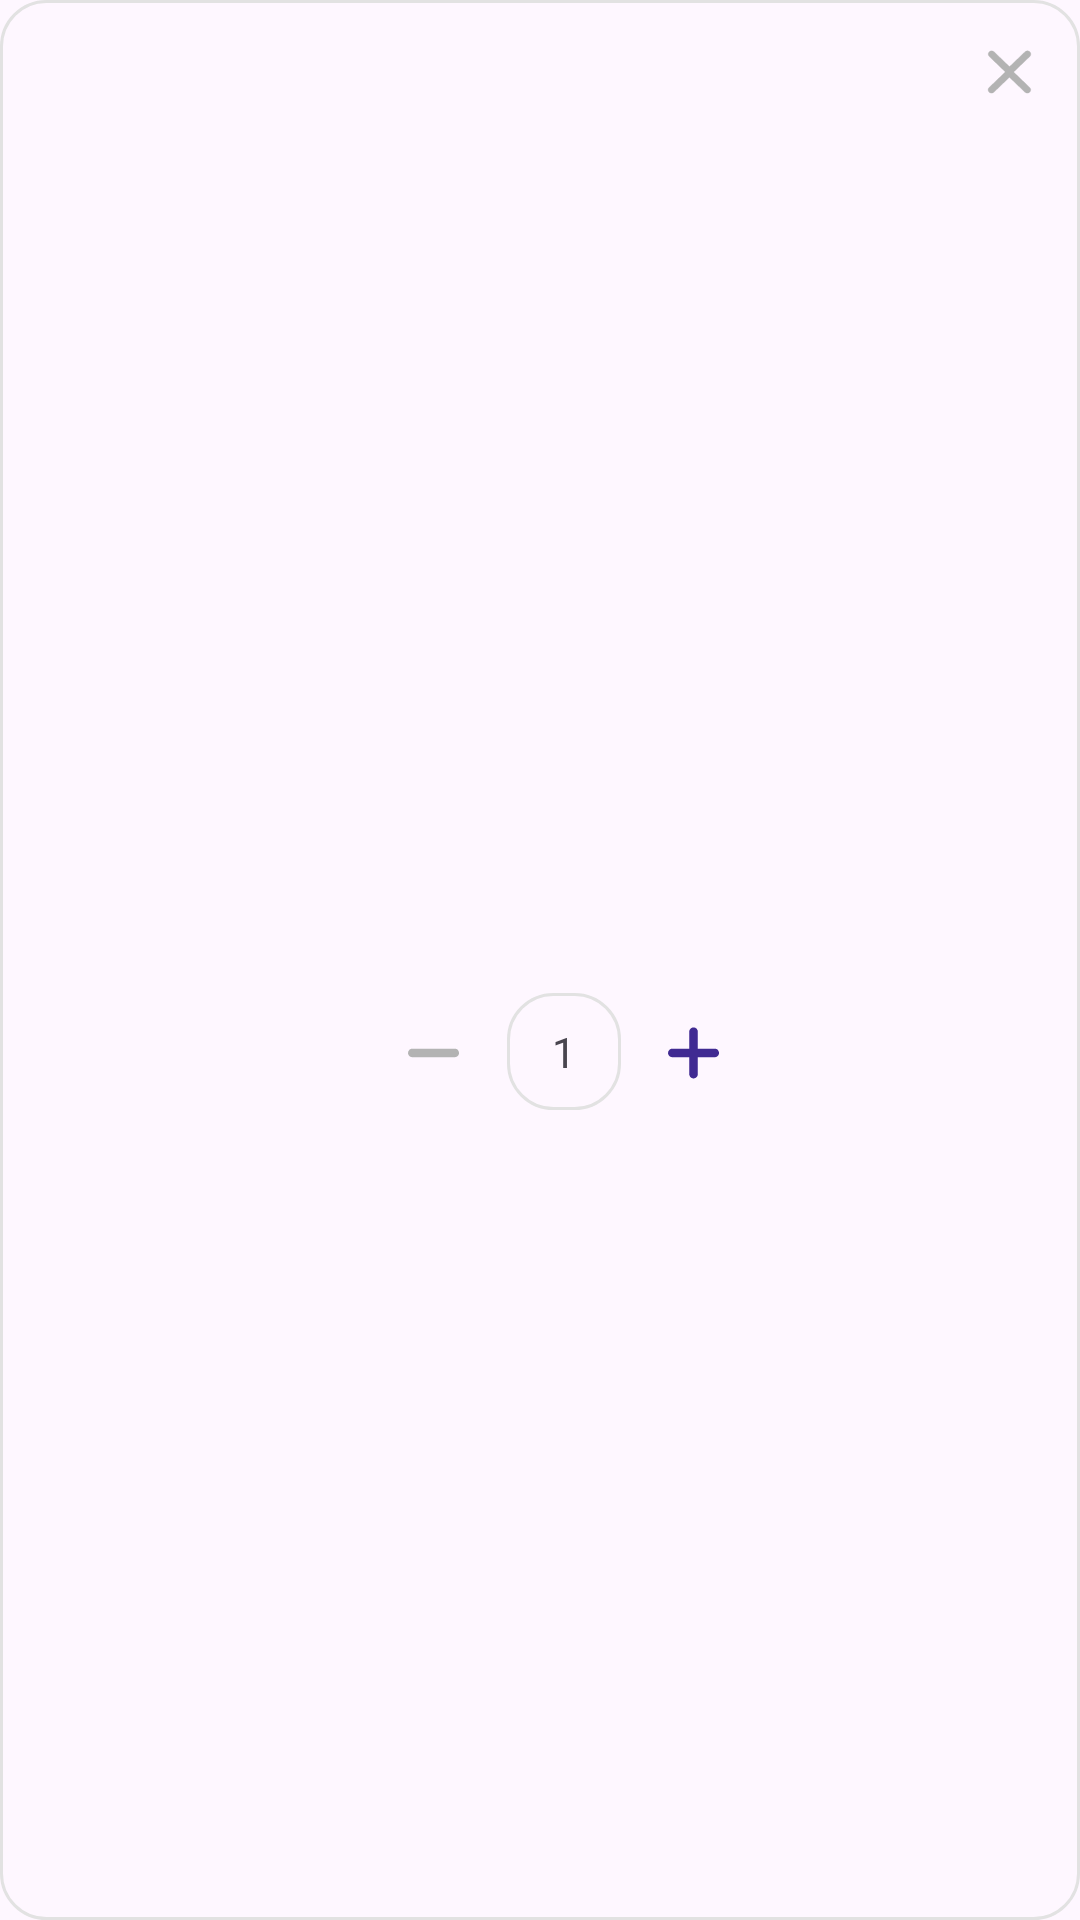

Icons on this 1080 x 1920 Android screen, each with the point to tap as (x=x, y=y):
plus: (x=693, y=1053)
